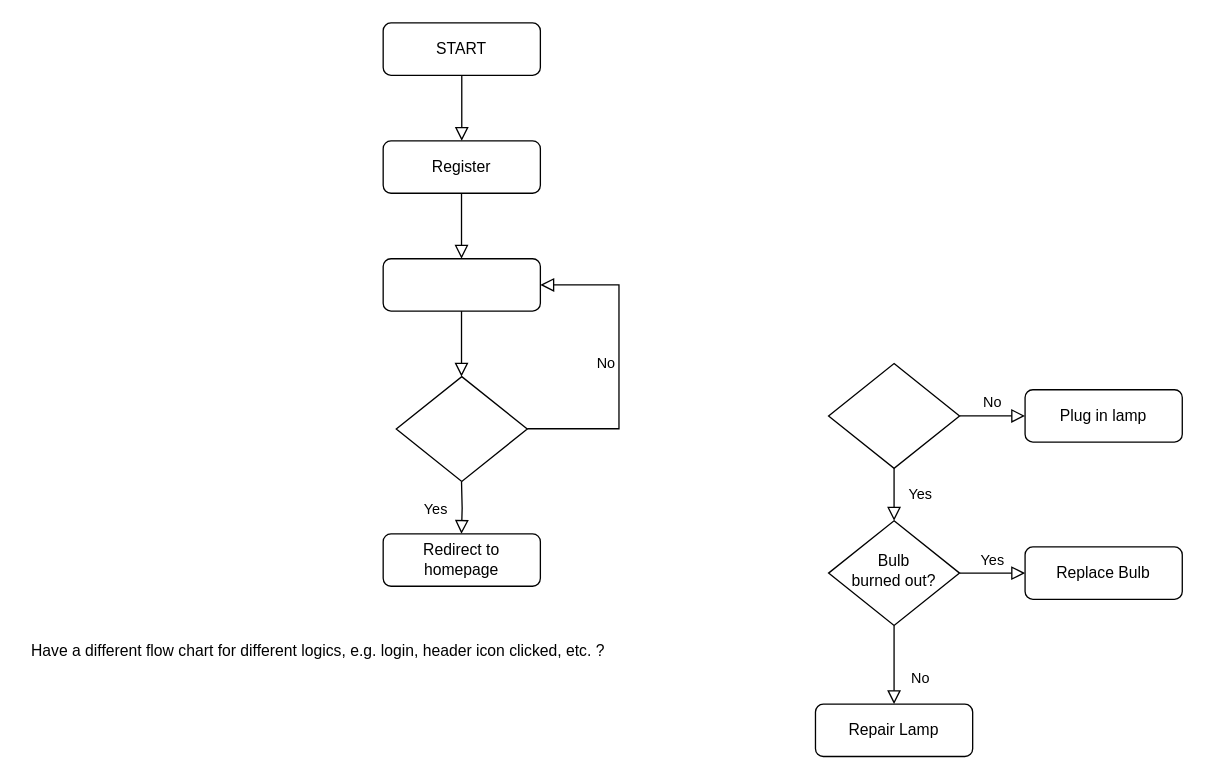
This 1205x779 diagram has some shape labels left out. Each missing label, with the centre of its shape:
Enter login details: the point at 461,284
Is details correct?: the point at 461,428
Lamp plugged in?: the point at 893,415
